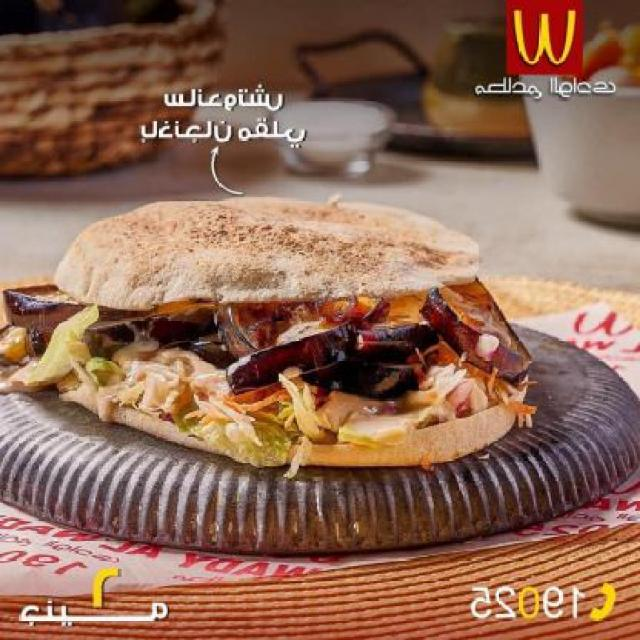eggplant: (24, 287, 522, 368)
hummus: (31, 371, 498, 435)
